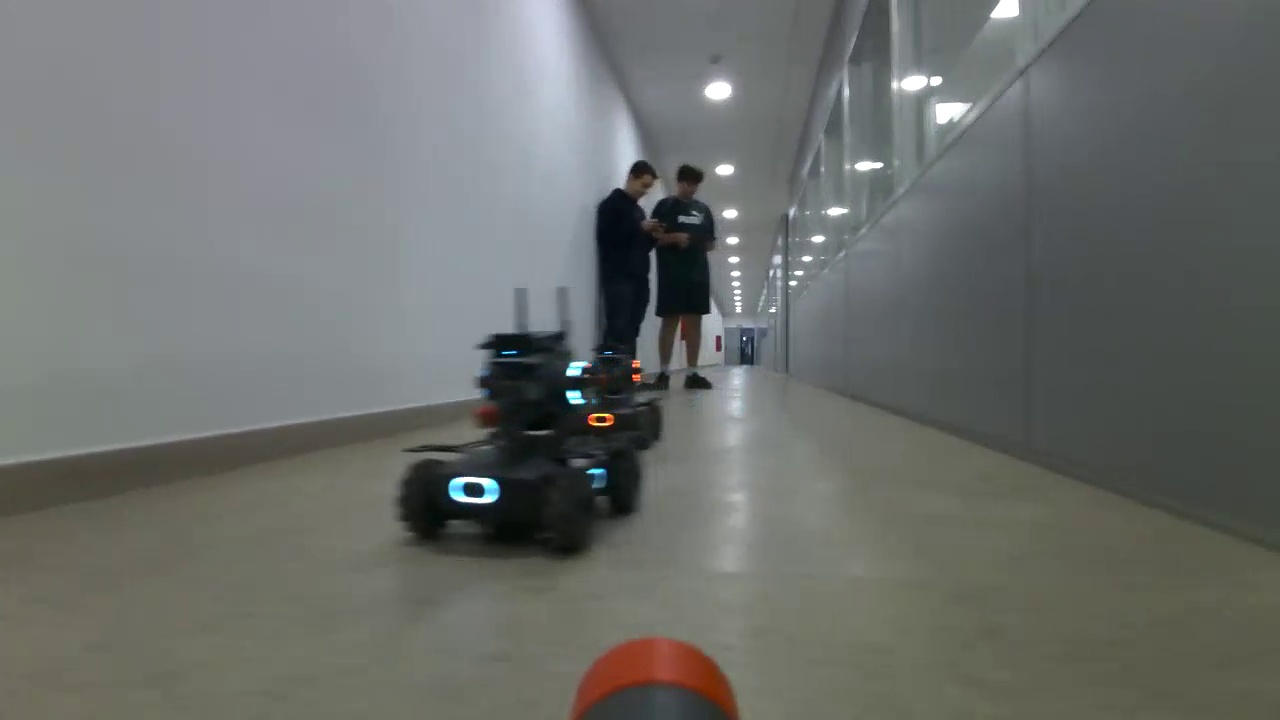robot: (395, 330, 643, 556), (583, 341, 666, 450)
